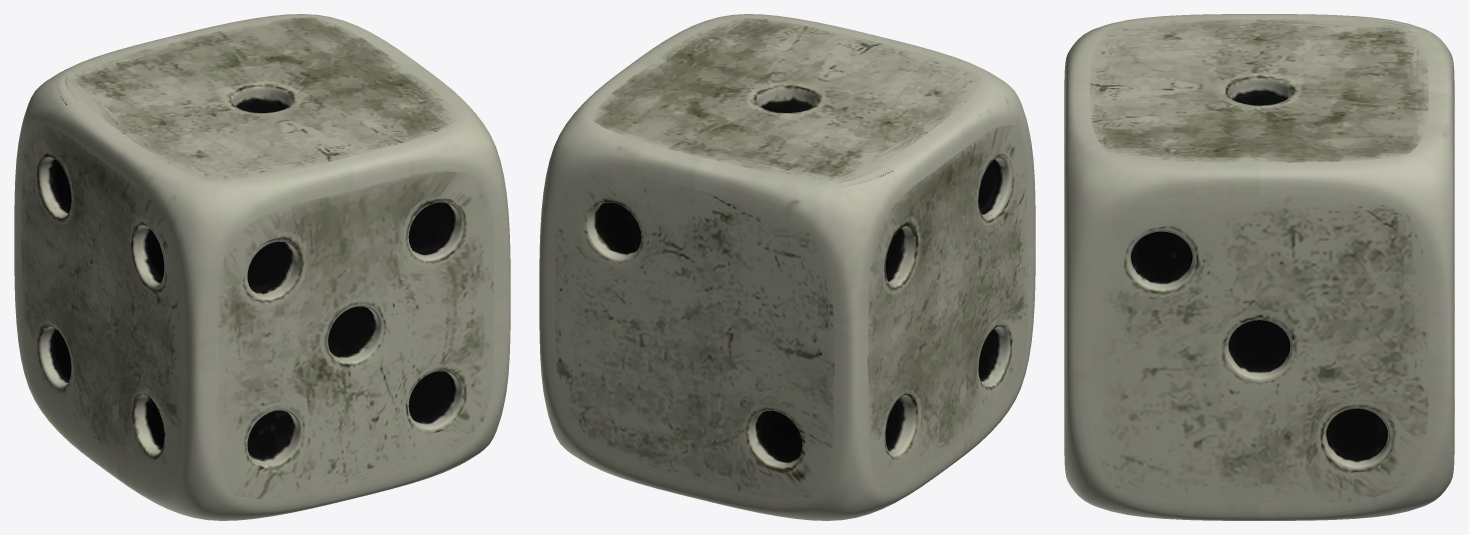
File: diceLight.gltf
The picture shows the model from 3 angles, left to right: view 1: azimuth 30°, elevation 25°; view 2: azimuth 150°, elevation 25°; view 3: azimuth 270°, elevation 25°; orthographic projection. The views are drawn at different scales.
Parts seen in each view (by area): view 1: dice; view 2: dice; view 3: dice.
Part boxes in pixels (box(x1,y1,x2,y2)): dice: box(14, 14, 510, 520); dice: box(539, 14, 1035, 520); dice: box(1064, 14, 1454, 520).
Size of the model in its own units: 0.16 by 0.16 by 0.16.
1 material, 1 textured.
